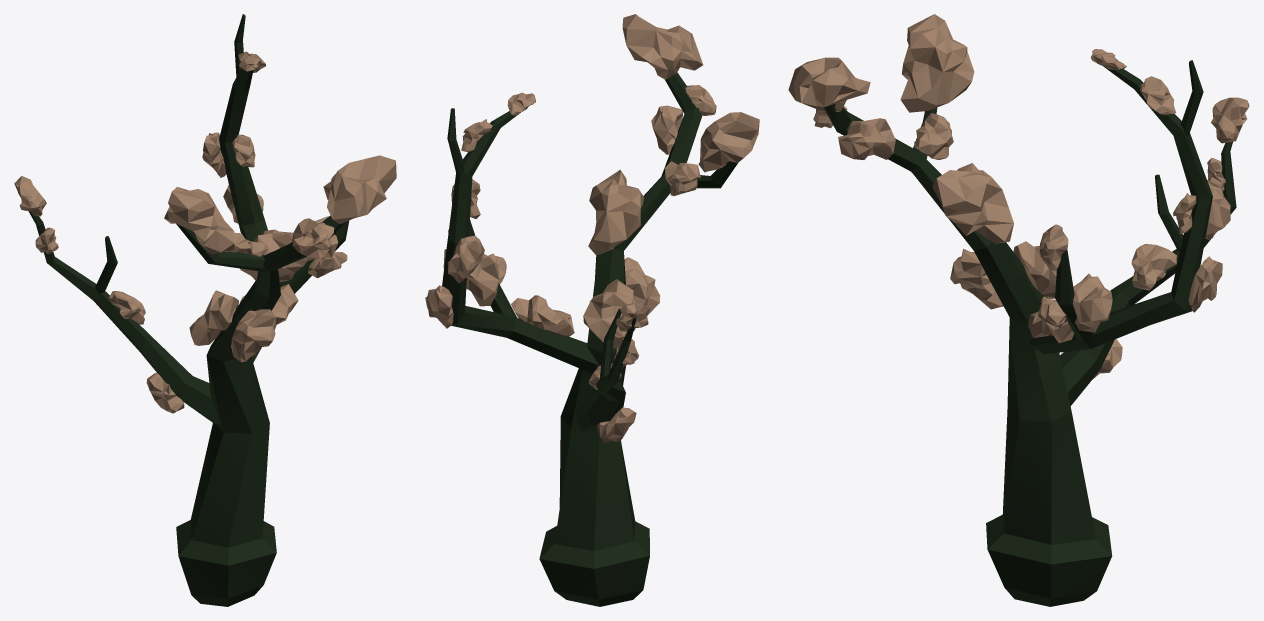
Rendered from peach_tree3.FBX.
The picture shows the model from 3 angles, left to right: view 1: azimuth 30°, elevation 25°; view 2: azimuth 150°, elevation 25°; view 3: azimuth 270°, elevation 25°; orthographic projection. The views are drawn at different scales.
Parts seen in each view (by area): view 1: peach_tree3; view 2: peach_tree3; view 3: peach_tree3.
Boxes of the visible parts, x1,y1,x2,y2 form: peach_tree3: [14, 14, 396, 606]; peach_tree3: [425, 14, 759, 606]; peach_tree3: [788, 14, 1249, 606].
Size of the model in its own units: 194 by 250 by 348.
